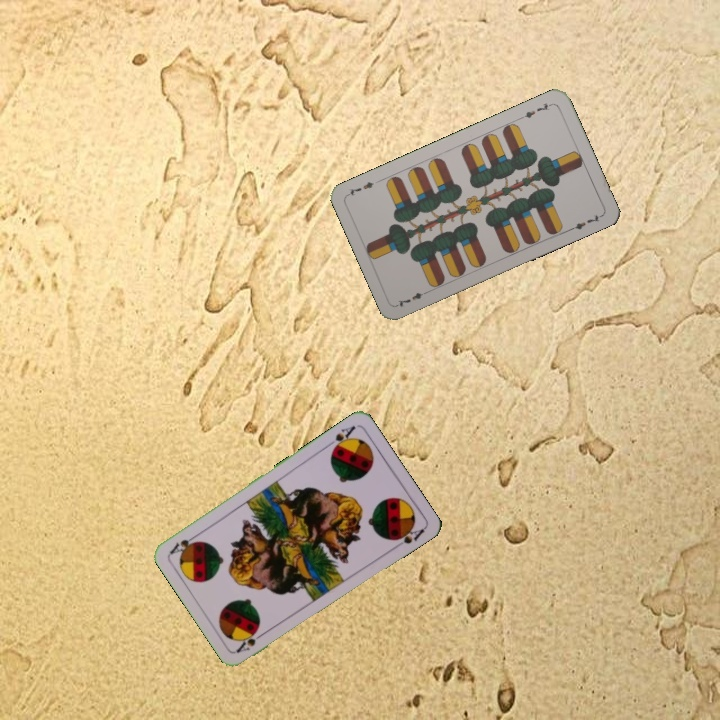E7: (516, 99, 555, 121), (393, 287, 432, 309)
SA: (323, 421, 358, 455), (233, 626, 269, 656)
